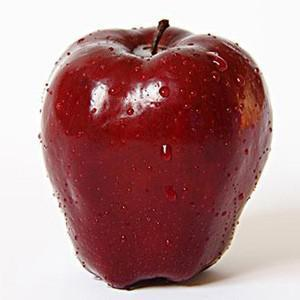apple: (38, 30, 273, 289)
